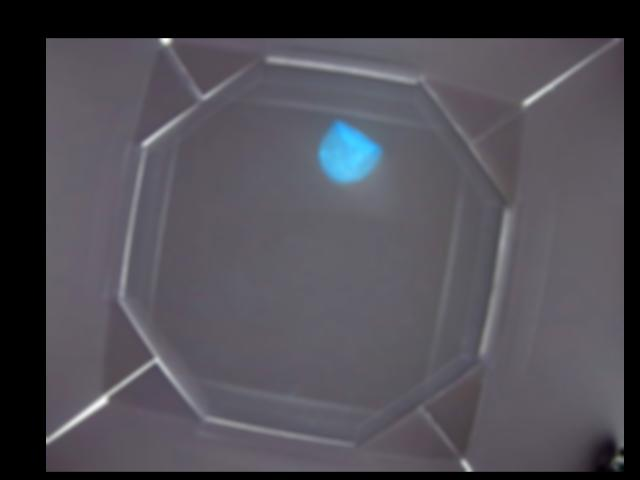Carrot: (317, 119, 379, 180)
